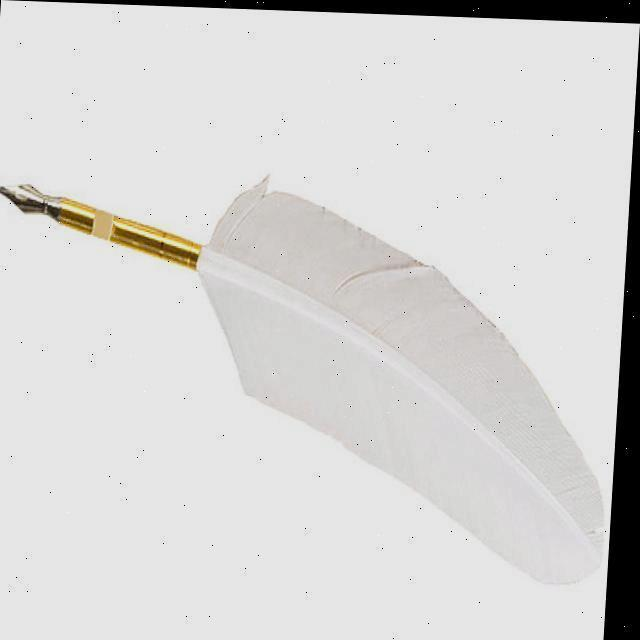pen: (0, 163, 628, 583)
